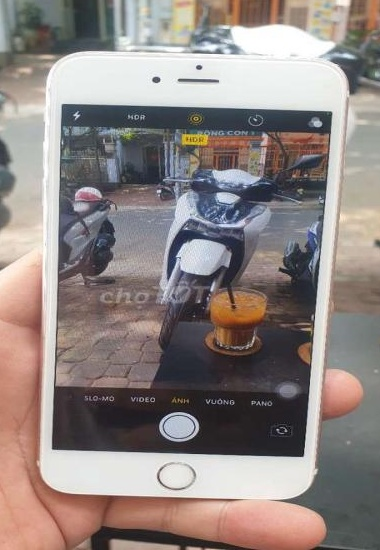scratch: (25, 74, 78, 139)
